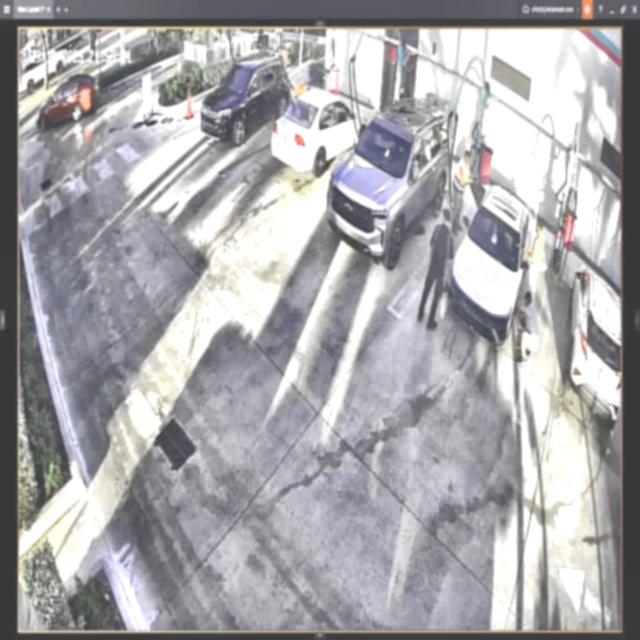Car: (329, 102, 450, 268), (449, 182, 530, 340), (270, 88, 368, 176)
